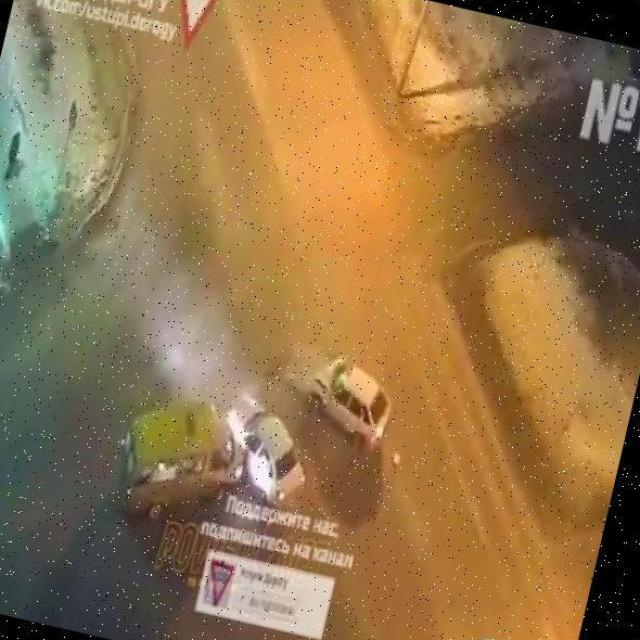accident: (98, 368, 322, 550)
